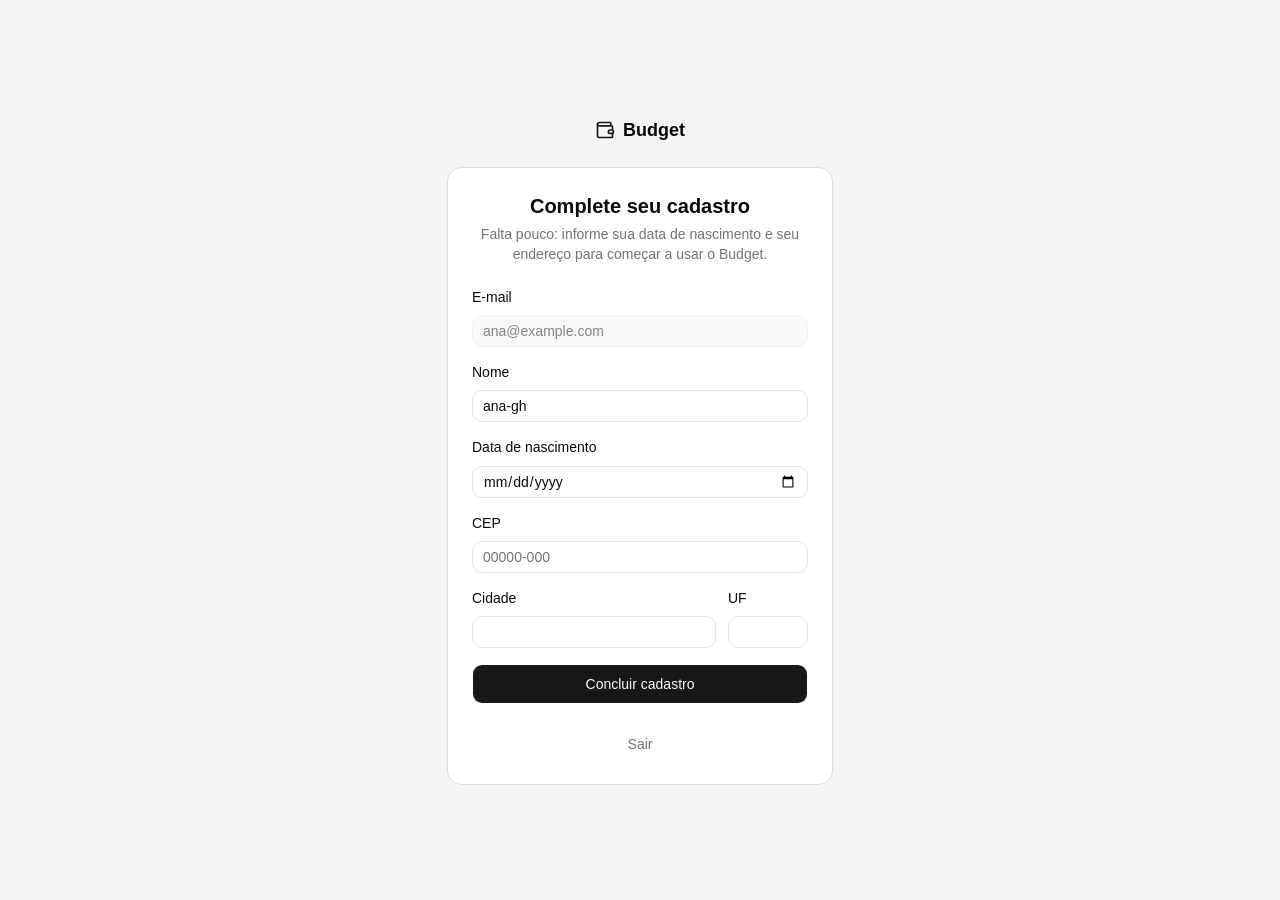
Test: Completar cadastro route (/completar-cadastro) › saves the profile and opens the page the user was going to
The width and height of the screenshot is (1280, 900).
Step 1. Type "1990-05-20" into the date field labelled "Data de nascimento" → [640, 482], box [472,466,808,498]
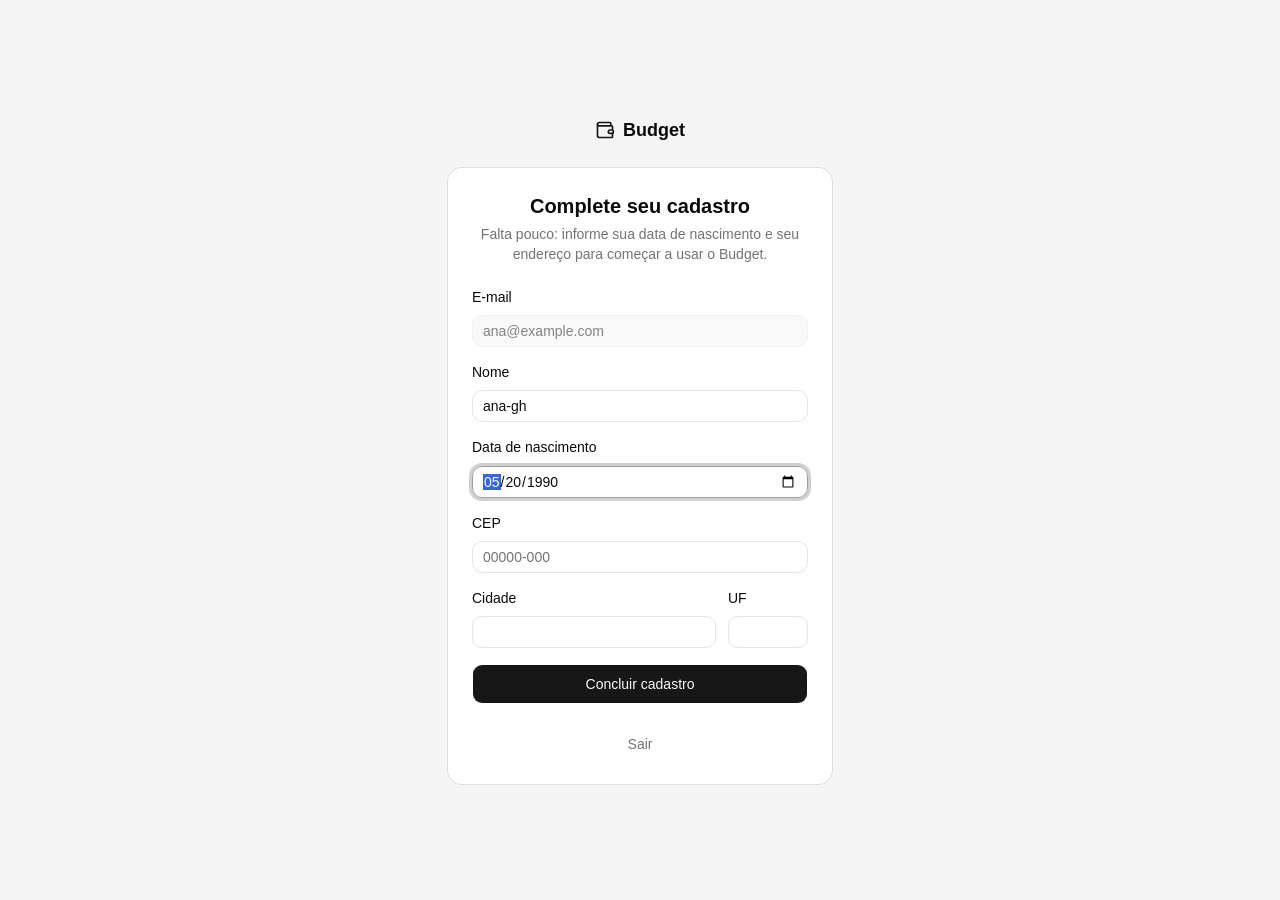
Step 2. Type "01001000" into the field labelled "CEP" → [640, 557], box [472,541,808,573]
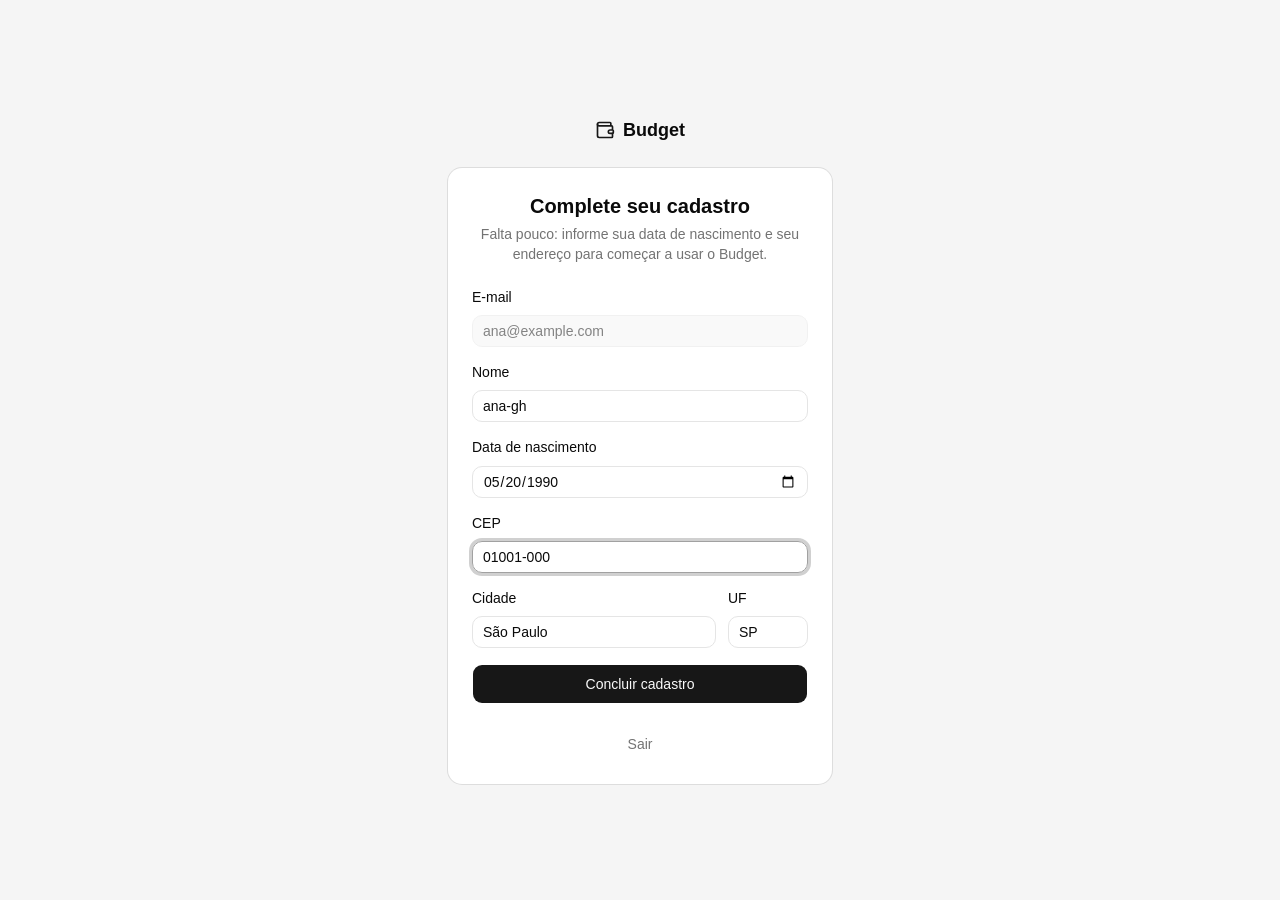
Now the field labelled "Cidade" holds "São Paulo", box [472,616,716,648]
Step 3. Click the button "Concluir cadastro" → [640, 684], box [472,664,808,704]
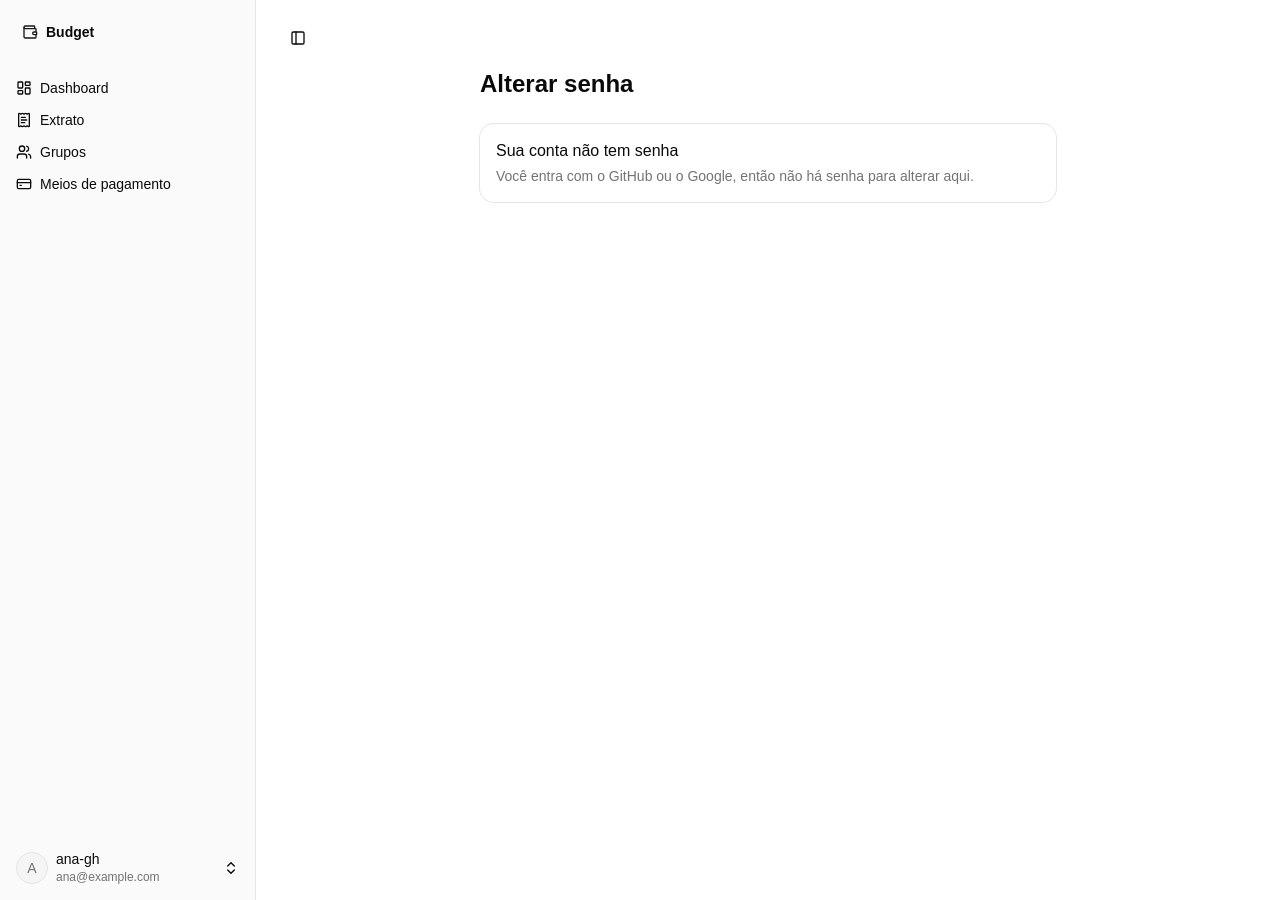
Now the heading "Alterar senha" is shown, box [480,70,633,97]
Now the text "Sua conta não tem senha" is shown, box [496,142,678,159]
